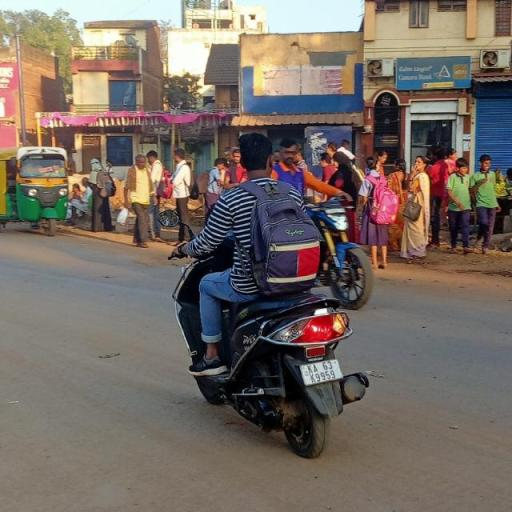bike: (150, 129, 388, 461)
numberplate: (296, 352, 348, 390)
withouthelmet: (240, 134, 273, 176)
